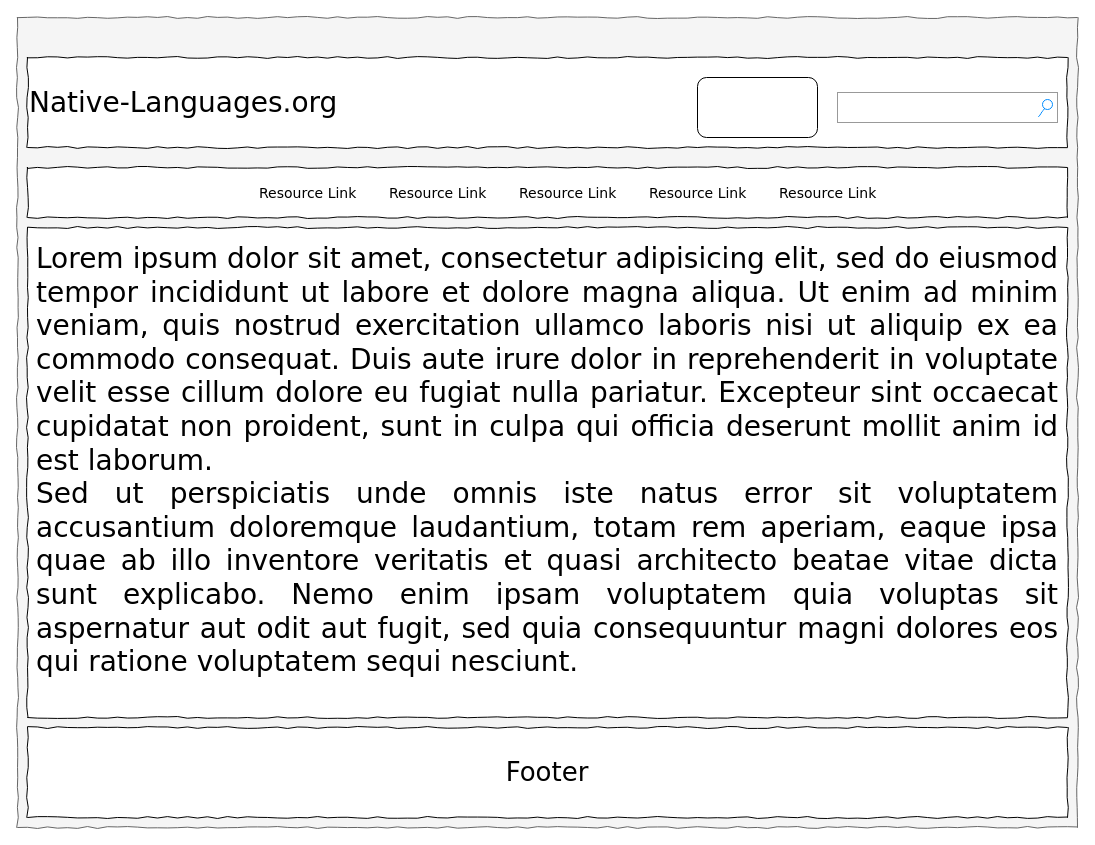
The diagram is 1095 pixels wide and 845 high, and some of its shapes have lost their labels. Here are the shapes that lost their labels. From the top down, the box of each, then its label:
(696, 76, 818, 138): Catergories
(836, 92, 1058, 122): Search
